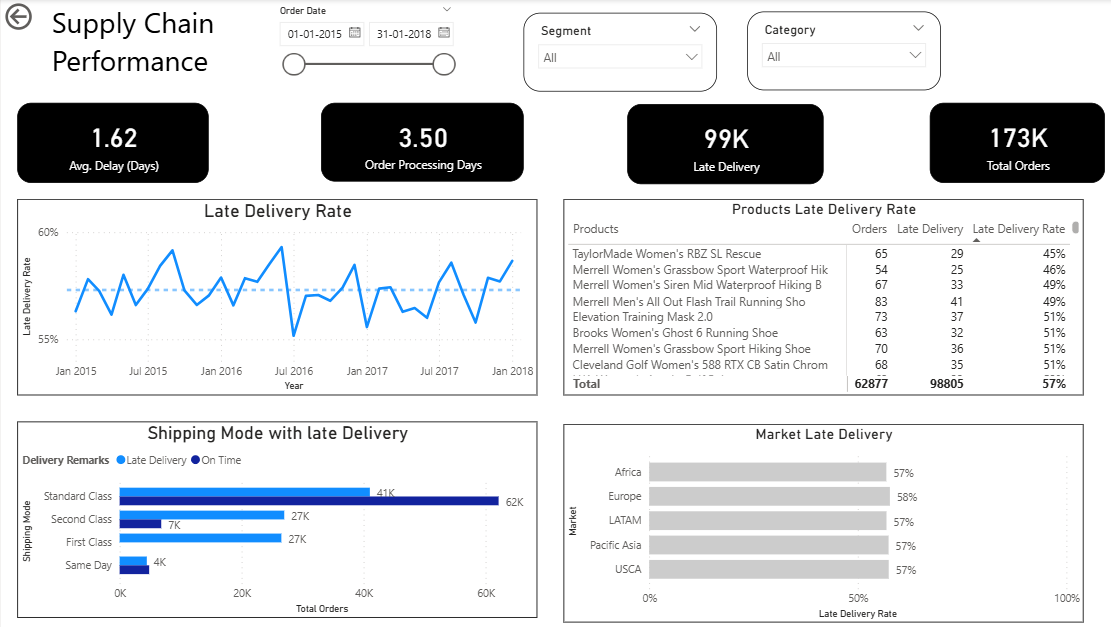

The page's visual inventory and layout, read from the dashboard file:
{"tool":"powerbi","page":{"name":"Supply Chain Performance","canvas":[1280,720],"ordinal":2},"visuals":[{"type":"card","fields":{"Values":["Measure Table.Avg. Delay"]},"box":[18.5,117.9,217.4,90.9],"z":0},{"type":"textbox","box":[52.6,0,351,119.4],"z":1000},{"type":"card","fields":{"Values":["Measure Table.Order Processing time"]},"box":[363.8,117.9,230.2,89.5],"z":2000},{"type":"card","fields":{"Values":["Measure Table.Late Delivery"]},"box":[711.9,119.4,223.1,90.9],"z":3000},{"type":"card","fields":{"Values":["Measure Table.Total Orders"]},"box":[1055.8,117.9,198.9,90.9],"z":4000},{"type":"lineChart","title":"Late Delivery Rate","fields":{"Y":["Measure Table.Late Delivery Rate"],"Category":["Date.Start of Month.Variation.Date Hierarchy.Year","Date.Start of Month.Variation.Date Hierarchy.Month"]},"box":[18.5,227.4,591.1,223.1],"z":5000},{"type":"pivotTable","title":"Products Late Delivery Rate","fields":{"Rows":["Product.PRODUCT_NAME"],"Values":["Measure Table.Total Distinct Orders","Measure Table.Late Delivery","Measure Table.Late Delivery Rate"]},"box":[639.4,227.4,591.1,223.1],"z":6000},{"type":"clusteredBarChart","title":"Market Late Delivery","fields":{"Category":["Transaction.MARKET"],"Y":["Measure Table.Late Delivery Rate"]},"box":[639.4,483.1,591.1,225.9],"z":7000},{"type":"clusteredBarChart","title":"Shipping Mode with late Delivery","fields":{"Category":["Transaction.SHIPPING_MODE"],"Y":["Measure Table.Total Orders"],"Series":["Transaction.Delivery Remarks"]},"box":[18.6,480.7,591,223],"z":8000},{"type":"actionButton","box":[0,0,100,40],"z":9000},{"type":"slicer","fields":{"Values":["Transaction.ORDER_DATE_DATEORDERS"]},"box":[304.1,1.4,220.2,117.9],"z":10000},{"type":"slicer","fields":{"Values":["Customer.CUSTOMER_SEGMENT"]},"box":[594,15.6,220.2,89.5],"z":11000},{"type":"slicer","fields":{"Values":["Product.CATEGORY_NAME"]},"box":[848.3,14.2,220.2,89.5],"z":12000}]}

Visuals, with their boxes in screenshot pixels (x1, y1, x2, y2), scaled from the page's 1280x720 canvas onto the 1111x627 screenshot:
card - Measure Table.Avg. Delay: 16, 103, 205, 182
textbox: 46, 0, 350, 104
card - Measure Table.Order Processing time: 316, 103, 516, 181
card - Measure Table.Late Delivery: 618, 104, 812, 183
card - Measure Table.Total Orders: 916, 103, 1089, 182
"Late Delivery Rate" lineChart: 16, 198, 529, 392
"Products Late Delivery Rate" pivotTable: 555, 198, 1068, 392
"Market Late Delivery" clusteredBarChart: 555, 421, 1068, 617
"Shipping Mode with late Delivery" clusteredBarChart: 16, 419, 529, 613
actionButton: 0, 0, 87, 35
slicer - Transaction.ORDER_DATE_DATEORDERS: 264, 1, 455, 104
slicer - Customer.CUSTOMER_SEGMENT: 516, 14, 707, 92
slicer - Product.CATEGORY_NAME: 736, 12, 927, 90
